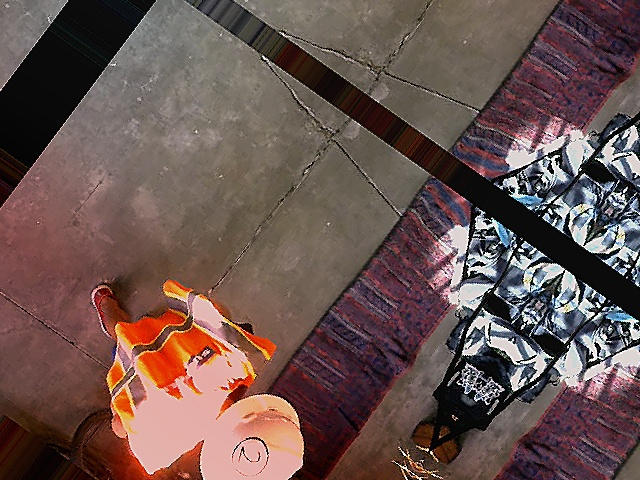two: (223, 430, 277, 479)
